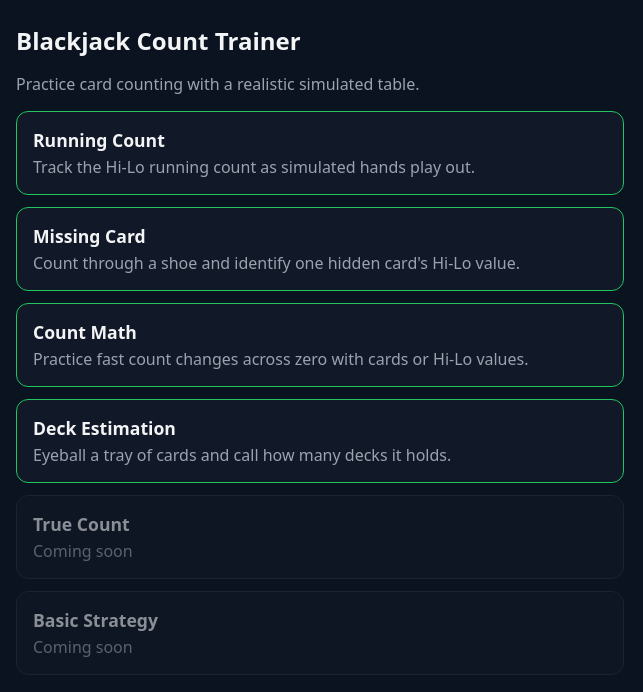
Test: Count Math flow › returns home from setup
Click the button "Count Math". click: (320, 345)
box: [16,303,624,387]
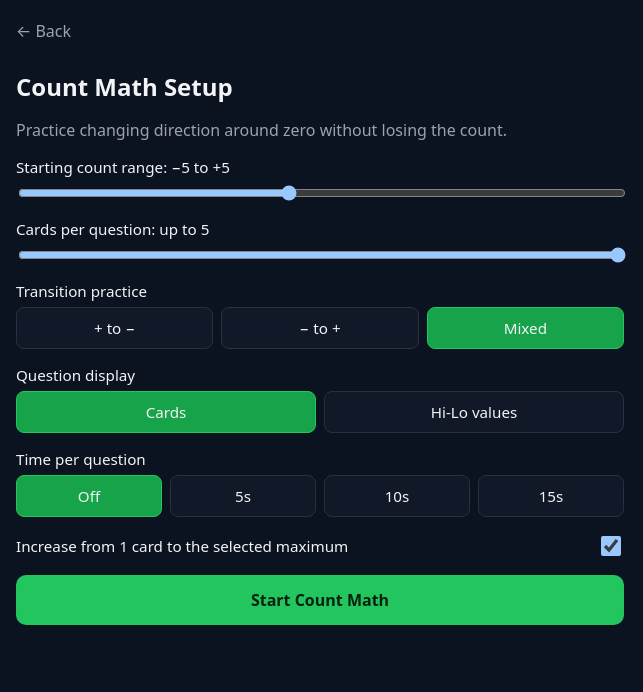
Click the button "← Back". click: (44, 31)
box: [16,16,71,46]
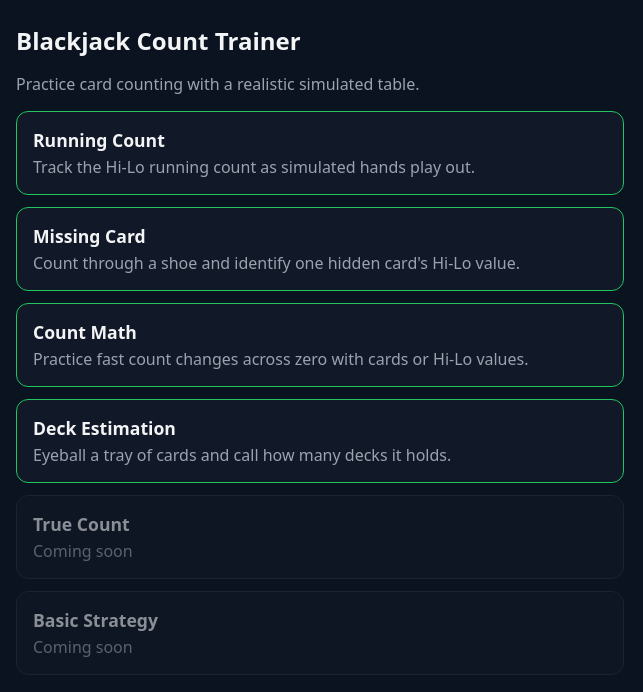
Check: the heading "Blackjack Count Trainer" is shown, box [16,24,300,57]
